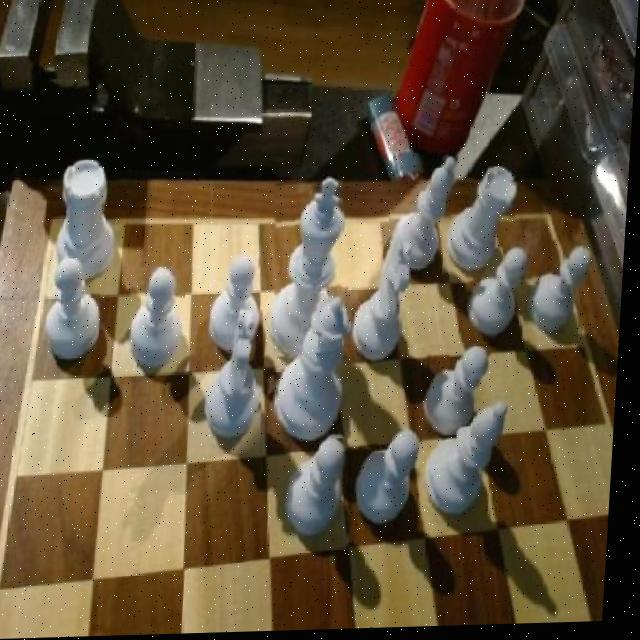black-rook: (423, 399, 511, 524), (387, 154, 459, 279)
white-king: (347, 242, 418, 366), (208, 312, 270, 444)
white-knight: (284, 437, 351, 546), (427, 345, 496, 441), (46, 257, 107, 364), (358, 430, 424, 528), (128, 268, 190, 371), (531, 244, 594, 340), (469, 252, 529, 342), (209, 260, 264, 354)
white-pawn: (273, 179, 353, 358), (273, 301, 360, 450)
white-queen: (55, 158, 122, 290), (444, 169, 521, 278)
